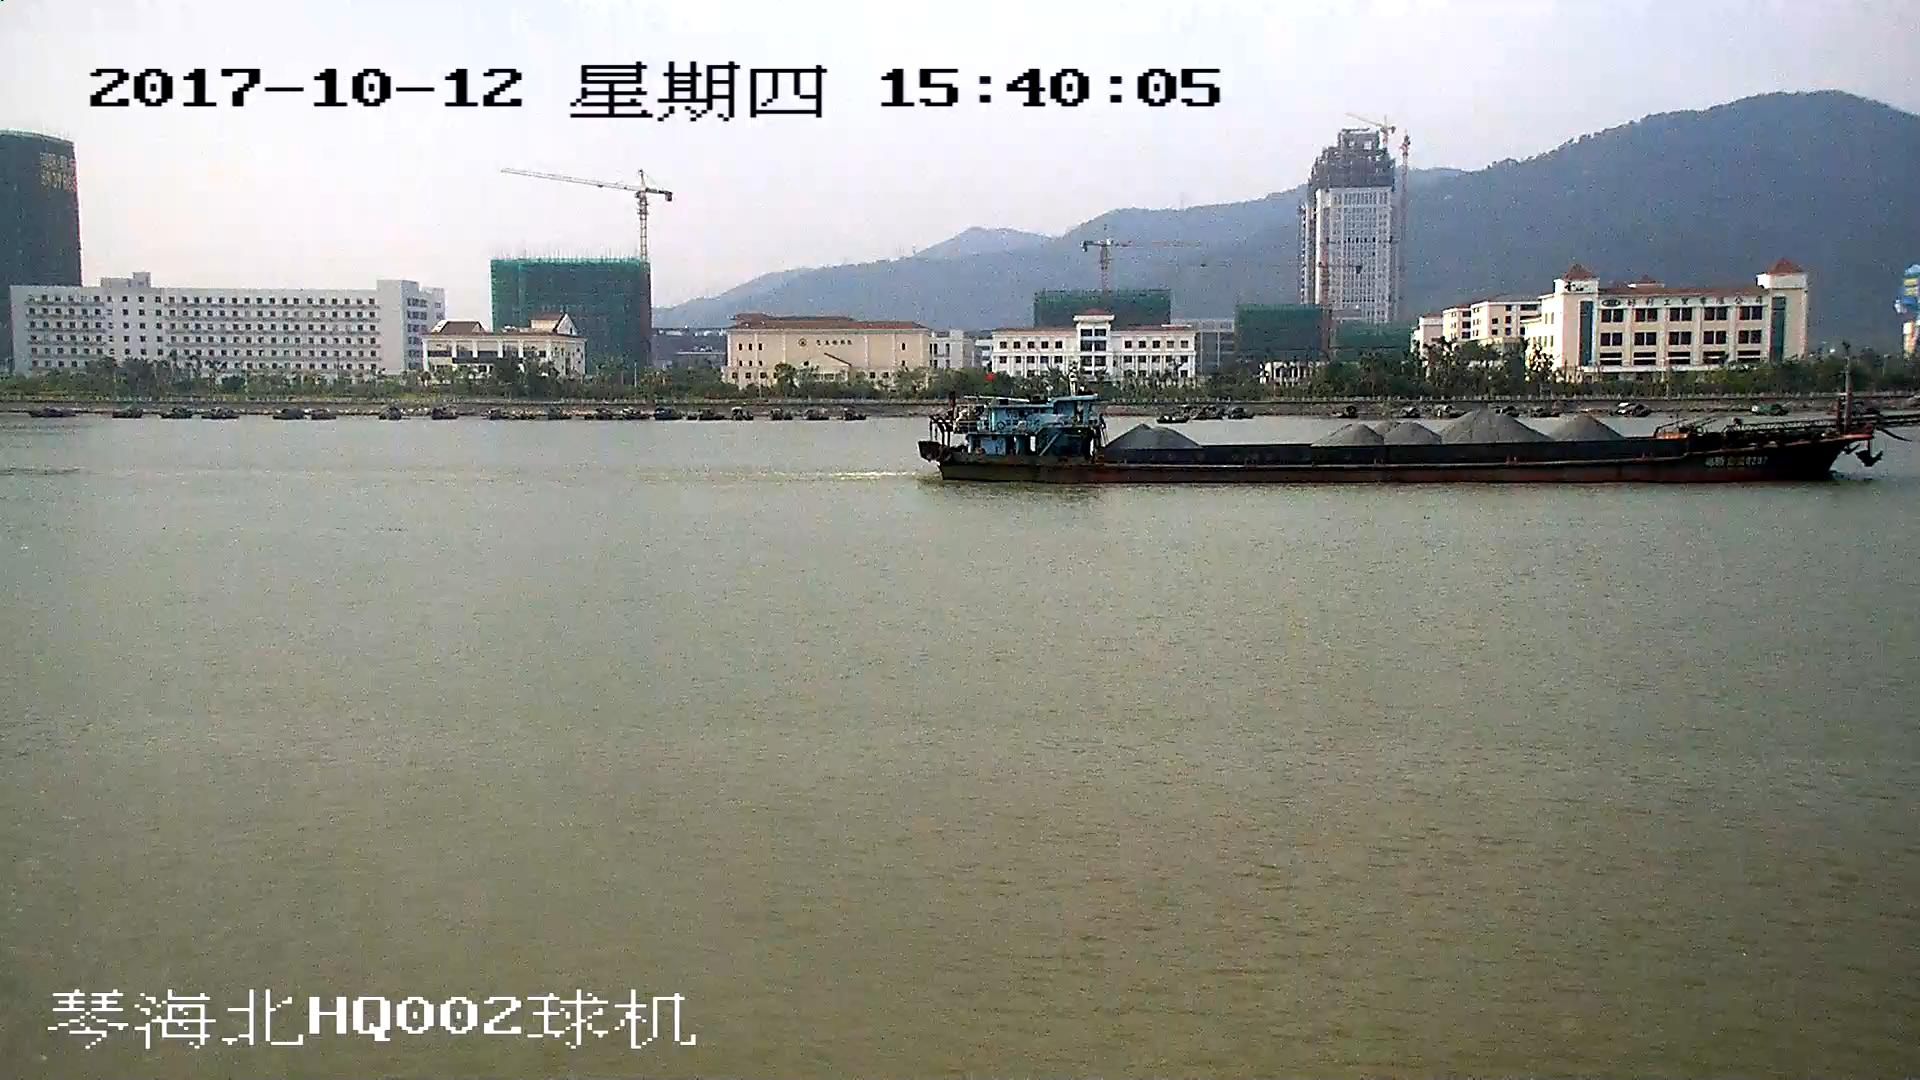ore carrier: (920, 374, 1920, 480)
